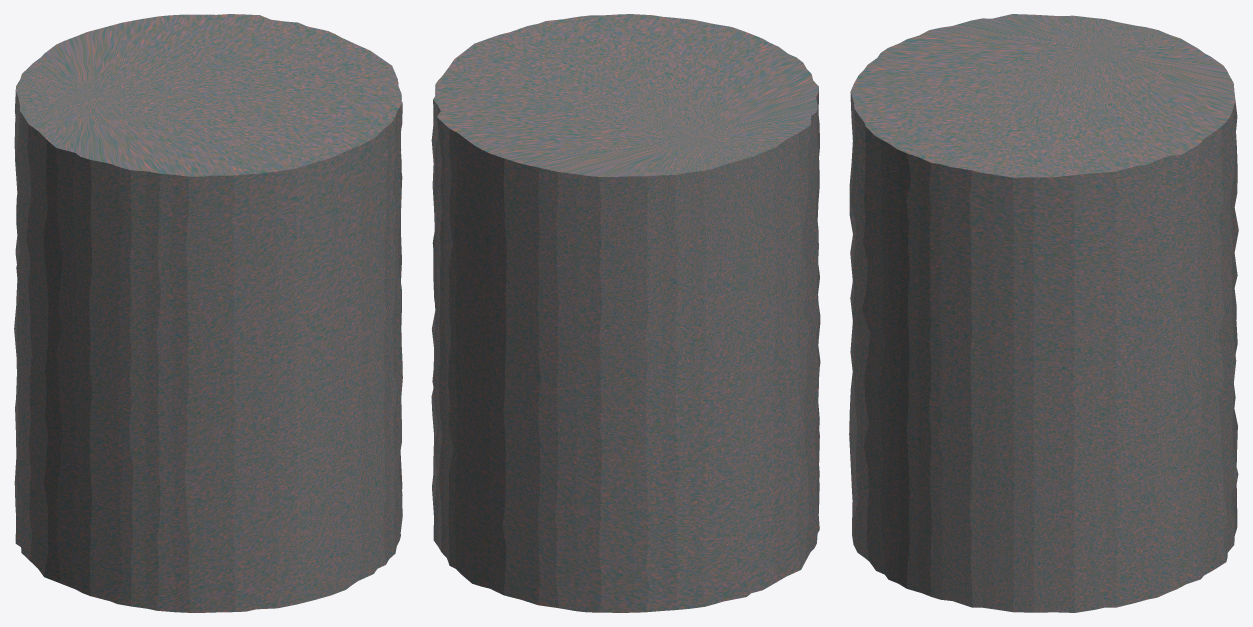
File: barrel_57.dae
3 renders of one model, left to right at view 1: azimuth 30°, elevation 25°; view 2: azimuth 150°, elevation 25°; view 3: azimuth 270°, elevation 25°, orthographic.
Visible parts, largest first — view 1: Cylinder; view 2: Cylinder; view 3: Cylinder.
Part boxes in pixels (box(x1,y1,x2,y2)): Cylinder: box(14, 14, 402, 612); Cylinder: box(431, 14, 820, 612); Cylinder: box(849, 14, 1238, 612).
Bounding box in the file's own units: 0.8143 × 0.8111 × 1.
Materials: 1 (1 with a texture image).
